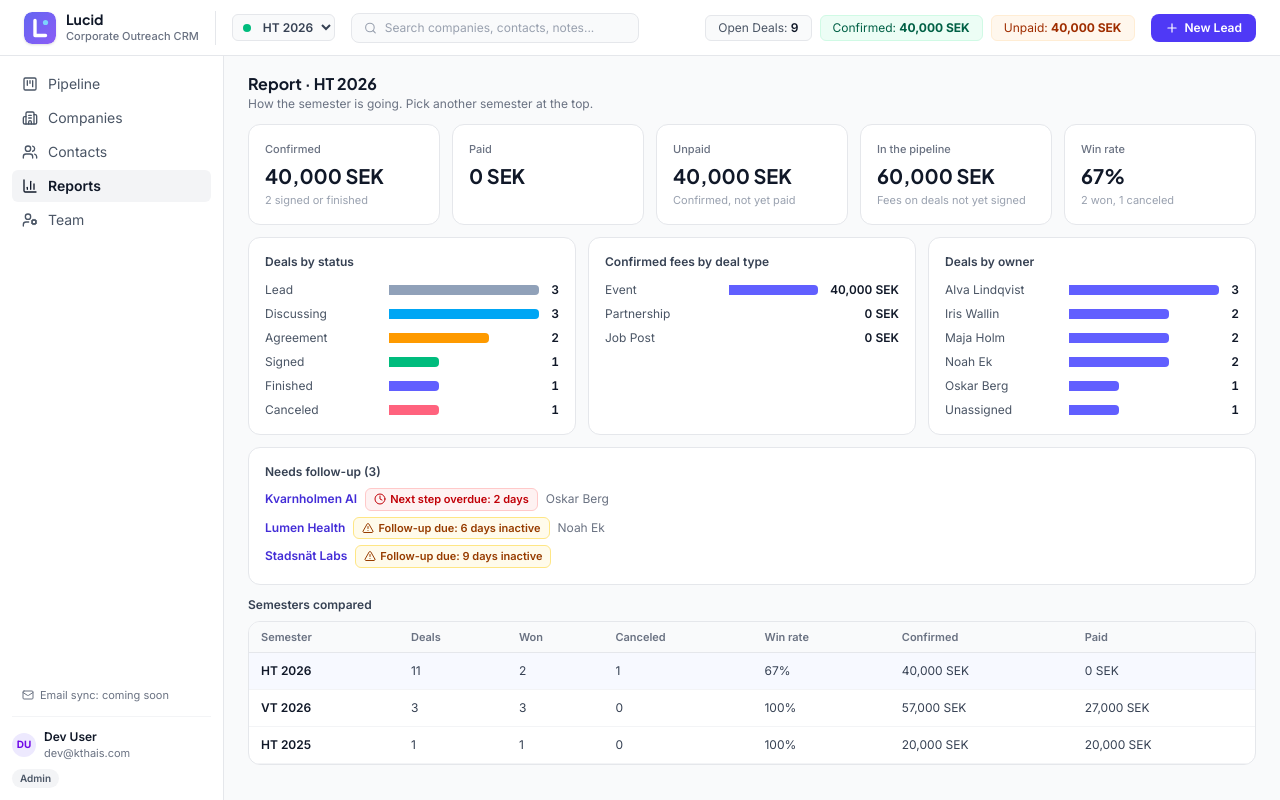
Test: Reports sums up the semester and lists who needs a follow-up
expect the element "Needs follow-up" shows "Needs follow-up (3)": met, box [248,447,1256,584]
Click the button "Lumen Health": (305, 528) [265,520,345,536]
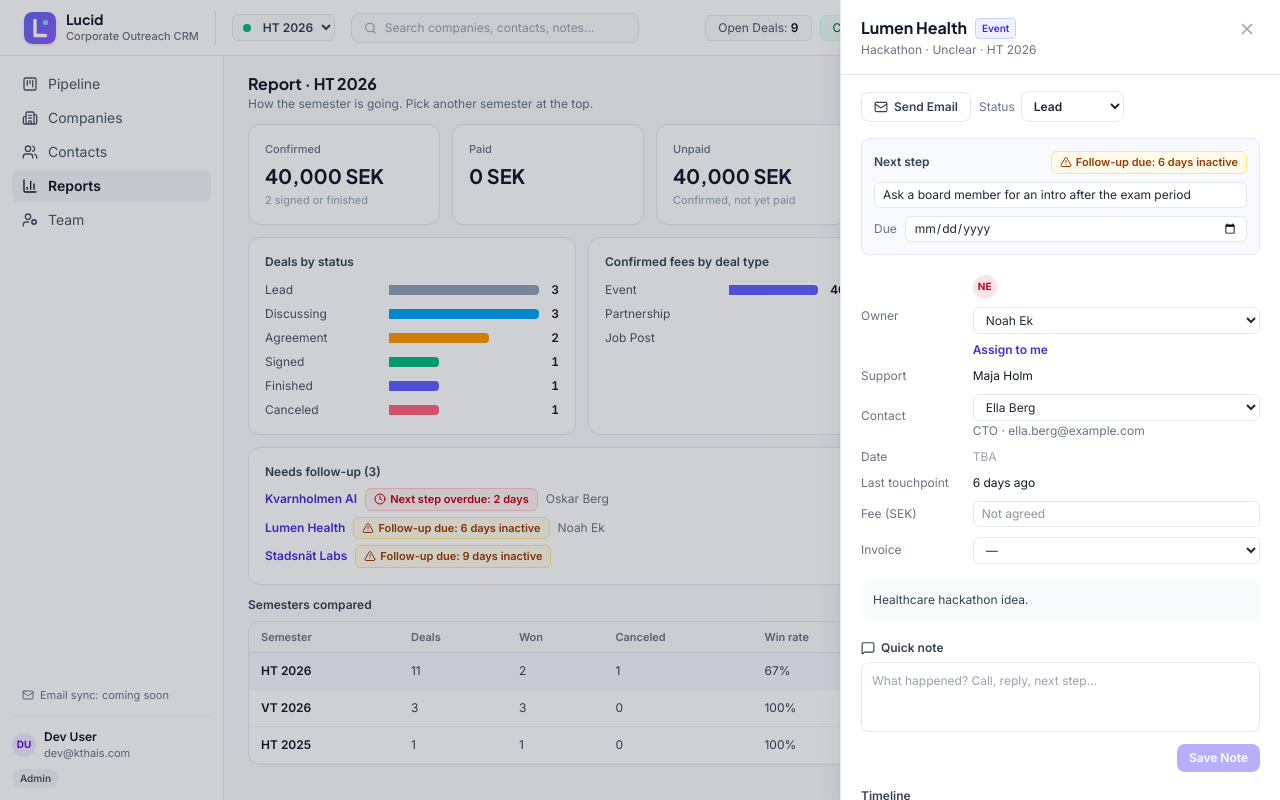
expect the dialog "Lumen Health" is shown: met, box [840,0,1279,799]
